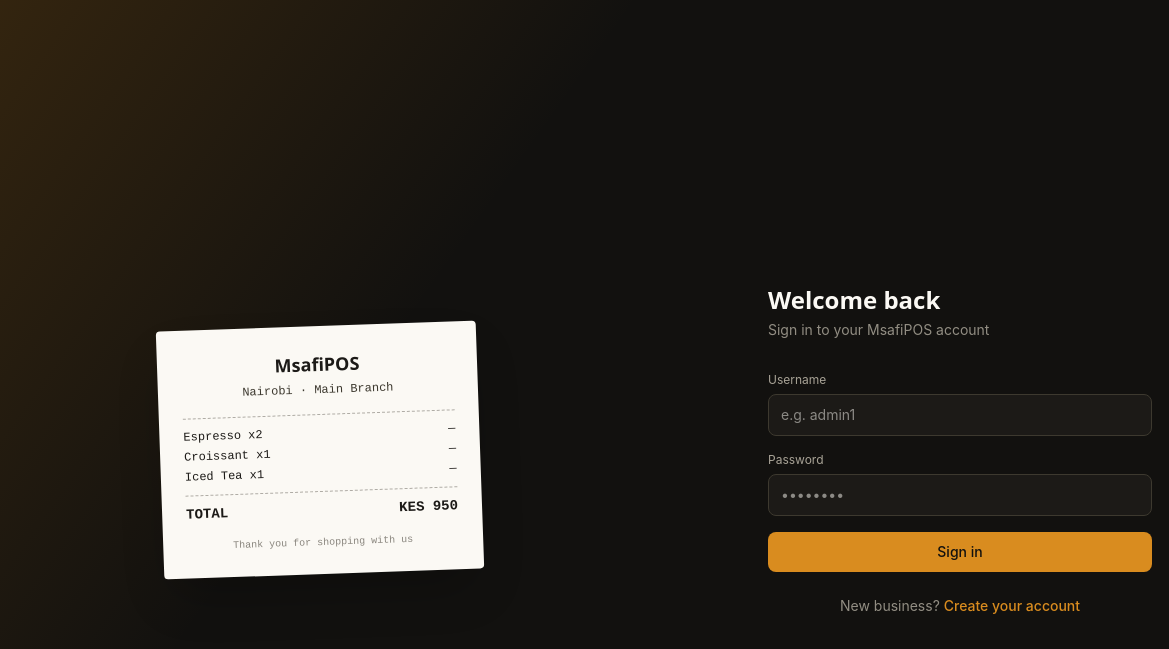
Test: LoginPage › shows a server error message when login fails
Type "baduser" into the field with placeholder "e.g. admin1".
click(960, 415); type("baduser")  # box x1=768 y1=394 x2=1152 y2=436
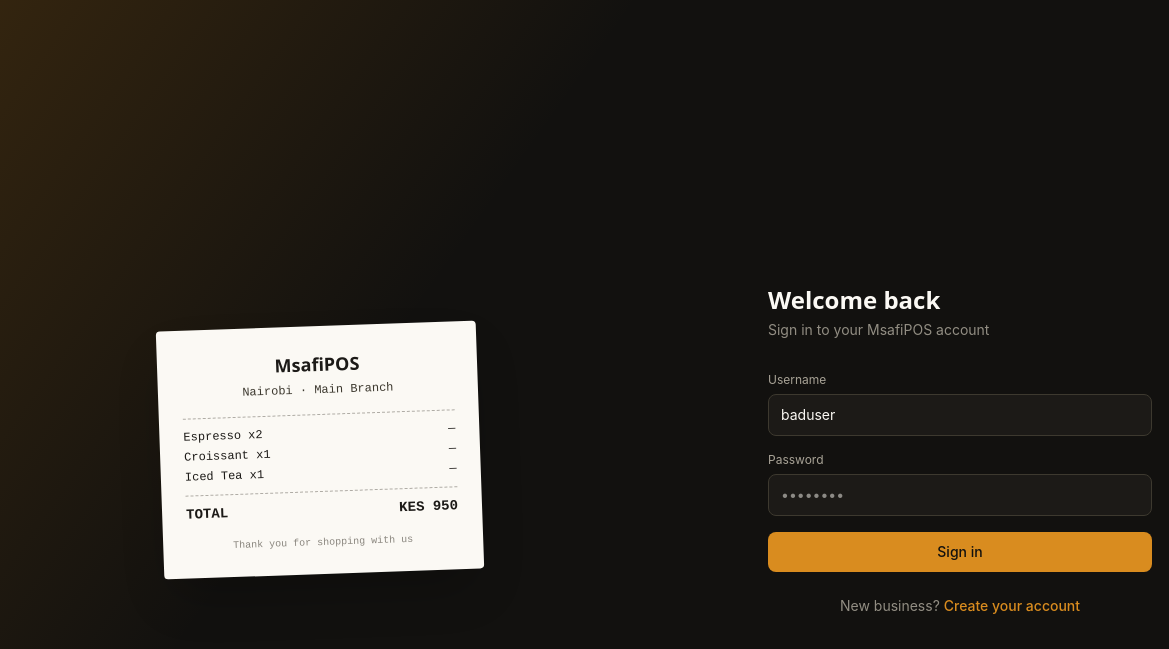
Type "badpass" into the password field with placeholder "••••••••".
click(960, 495); type("badpass")  # box x1=768 y1=474 x2=1152 y2=516
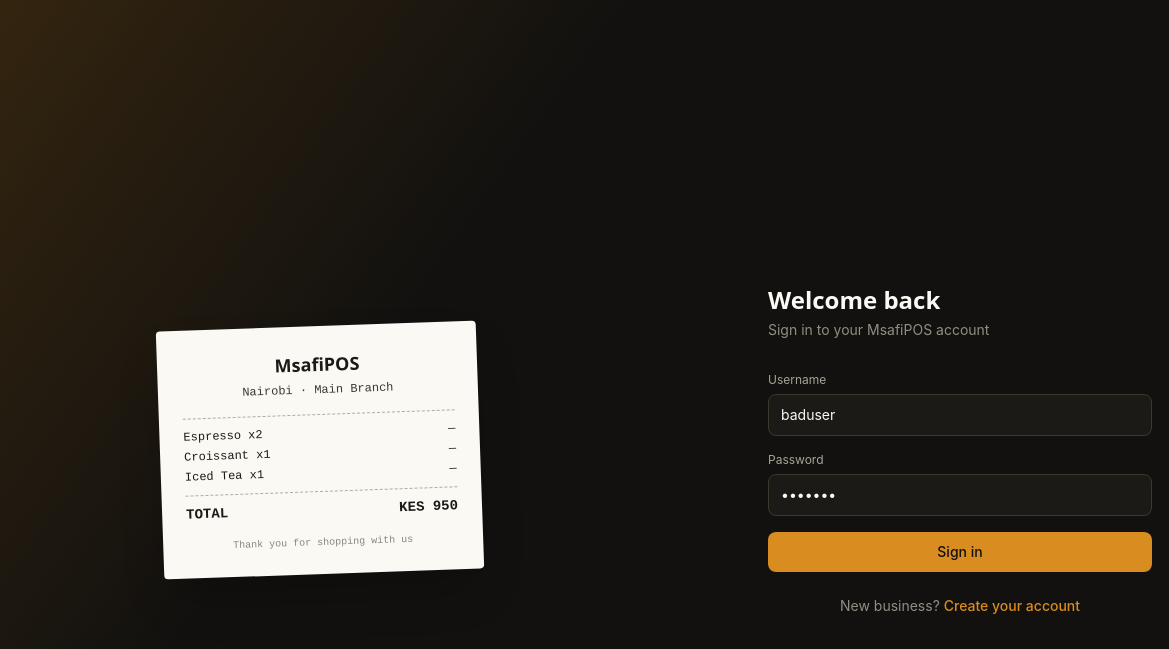
Click the button "Sign in".
click(960, 552)  # box x1=768 y1=532 x2=1152 y2=572
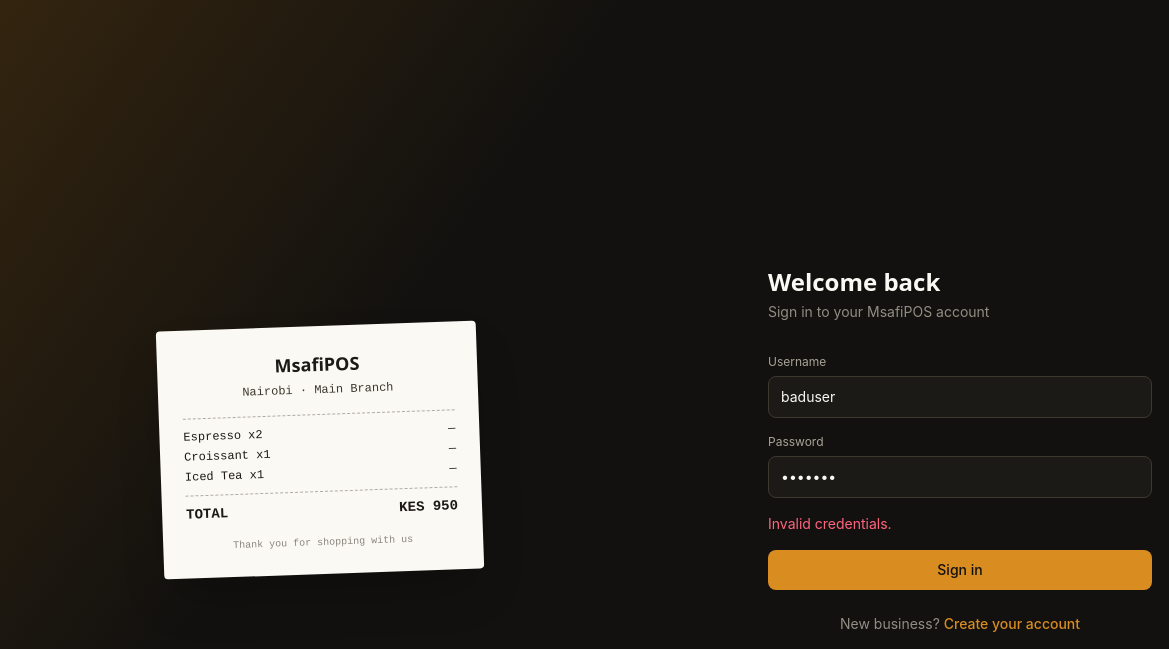
Result: the text "Invalid credentials." is shown at x1=768 y1=515 x2=892 y2=532
